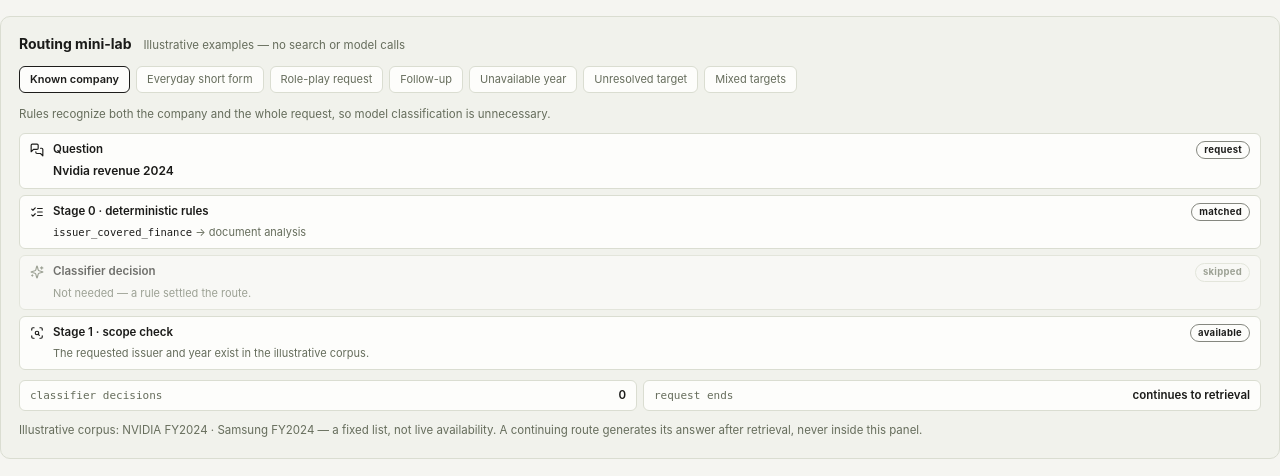
Test case: stops a role-play request at stage 0 with zero classifier decisions
What coordinates should you click on to do the following:
click the button "Role-play request"
I would click on:
 (326, 80)
Its box is top-left (270, 66), bottom-right (383, 93).
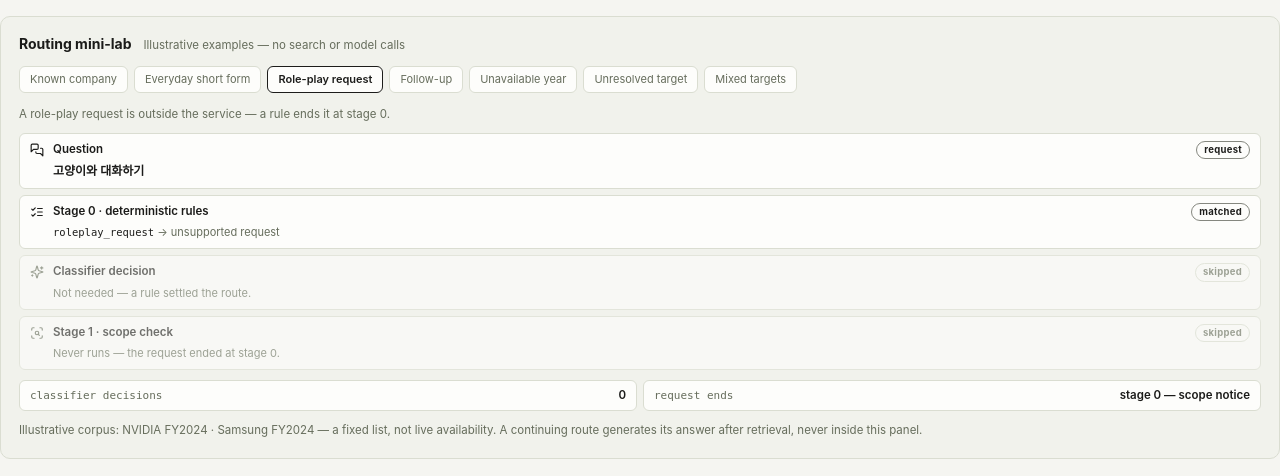
Now the text "고양이와 대화하기" is shown, box top-left (53, 163), bottom-right (144, 178)
Now the text "roleplay_request" is shown, box top-left (53, 226), bottom-right (154, 238)
Now the text "stage 0 — scope notice" is shown, box top-left (1120, 387), bottom-right (1250, 404)
